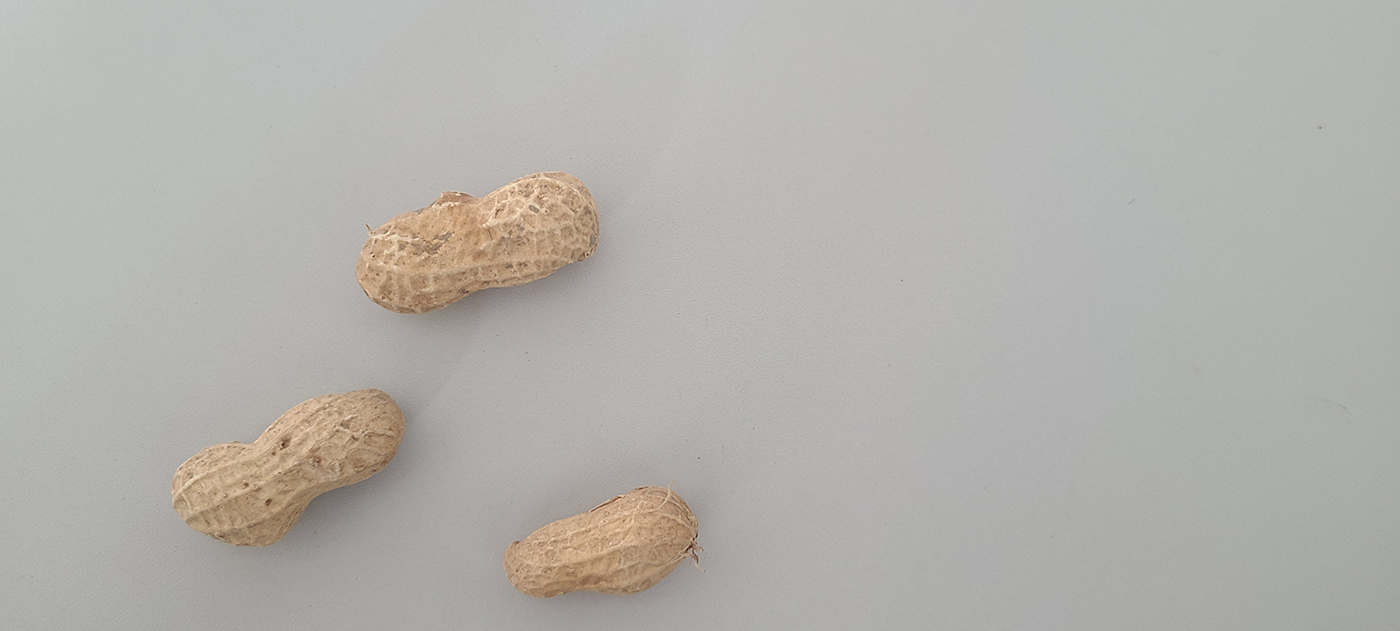h: (171, 385, 406, 548), (356, 169, 599, 314), (500, 482, 700, 599)
